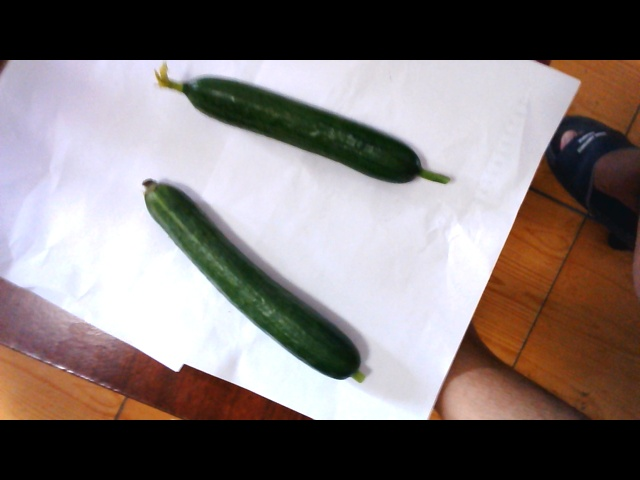cucumber: (140, 183, 374, 381), (147, 61, 468, 184)
